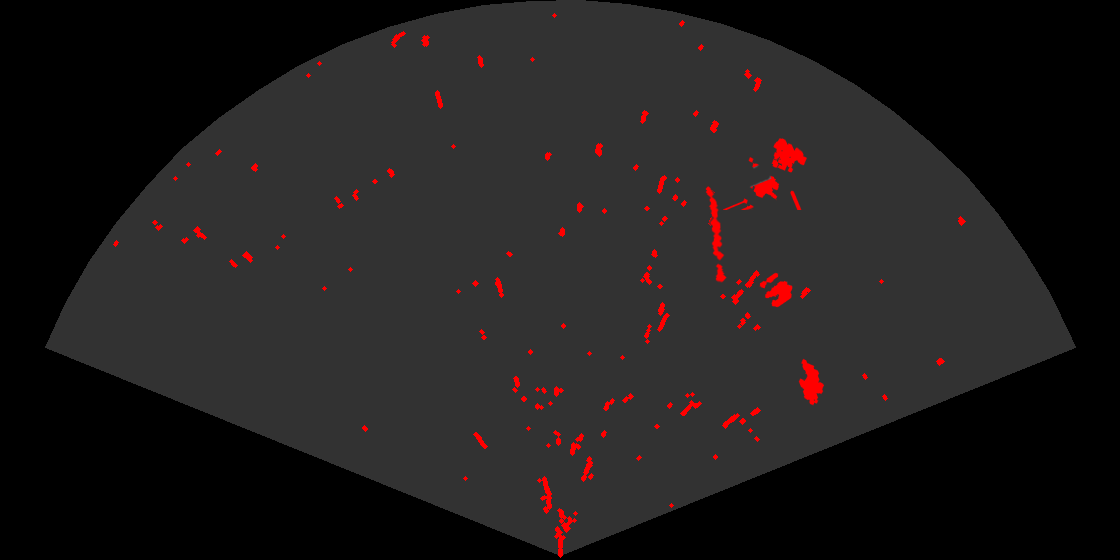AUV: (797, 357, 826, 407)
ball: (758, 271, 794, 309)
cage: (723, 137, 809, 210)
chain: (704, 185, 728, 283)
